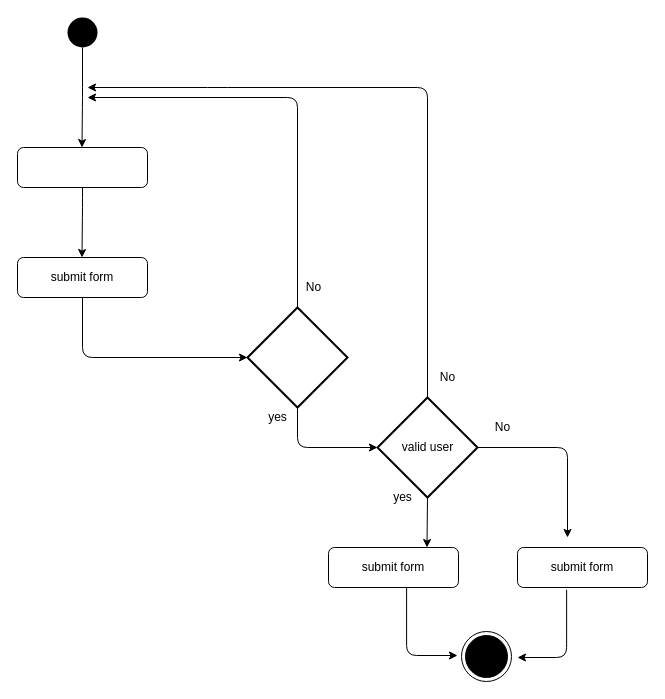
This 665x699 diagram has some shape labels left out. Here are the shapes that lost their labels. From the top down, the centre of each, then its label:
point 82,167: Enter login email / pass
point 297,357: Validation
